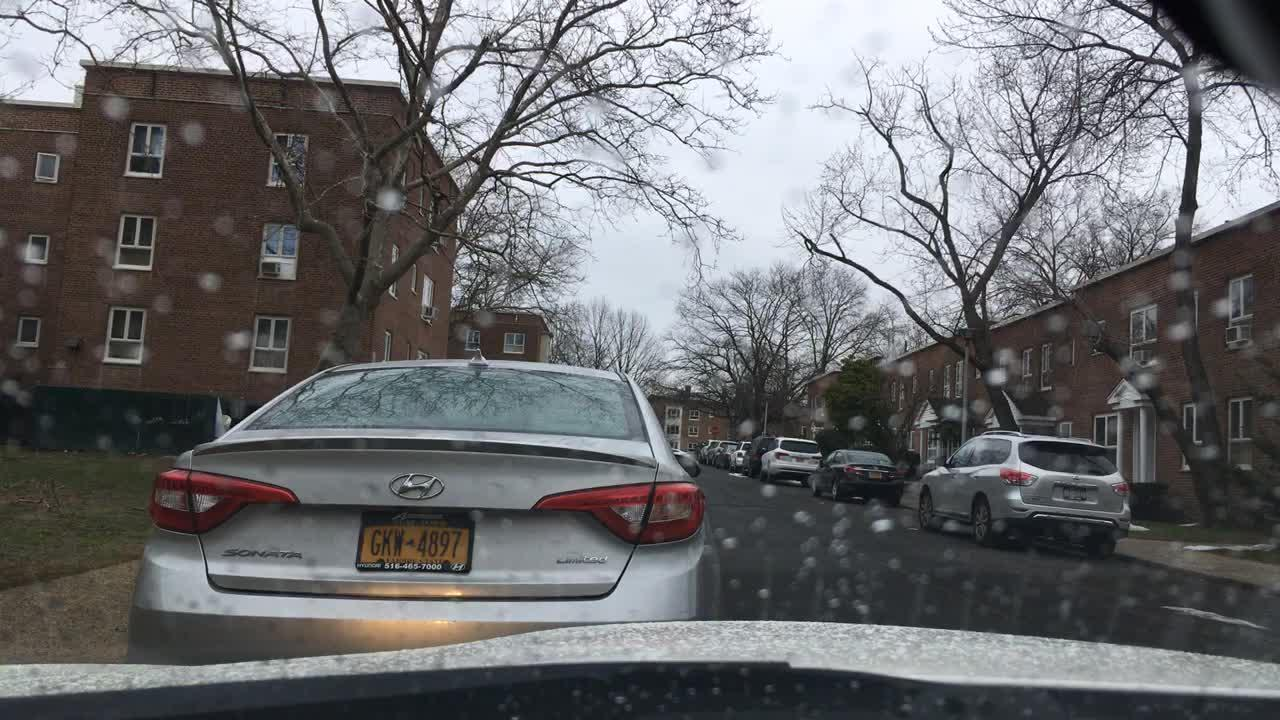Hyundai: (381, 457, 454, 508)
